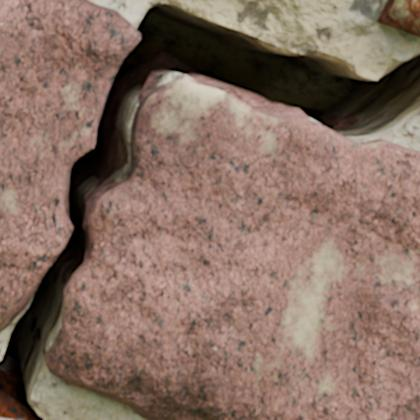broken_brick: (46, 76, 419, 419), (0, 0, 139, 327), (376, 0, 419, 37)
crack: (0, 0, 419, 419)
